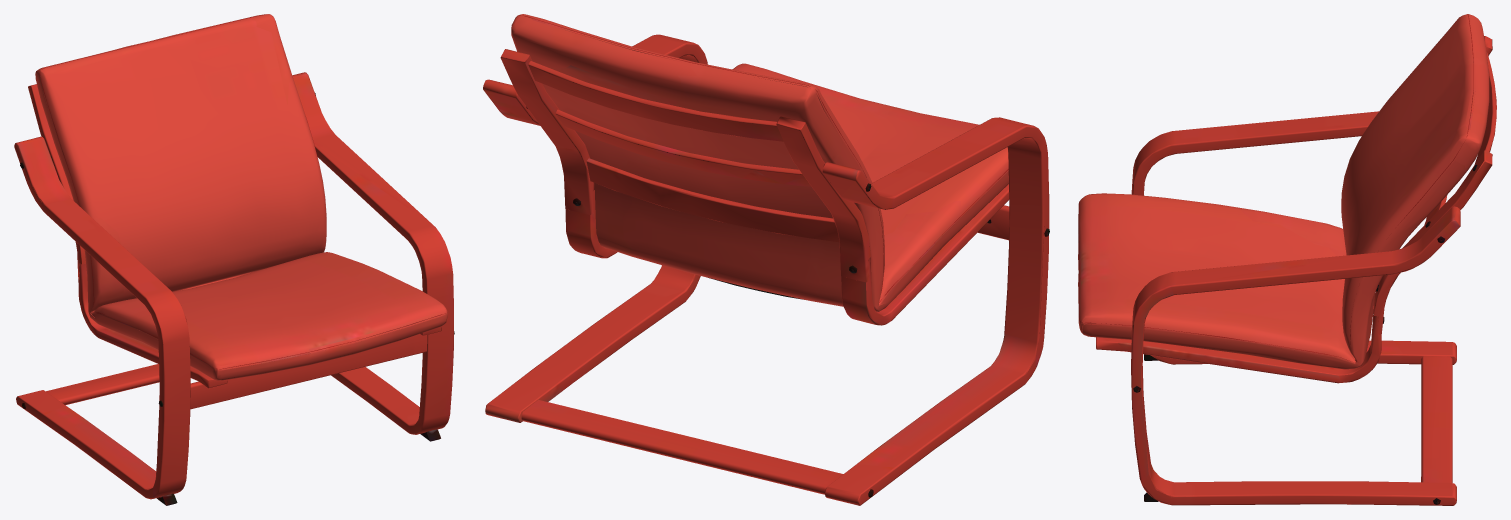
3 renders of one model, left to right at view 1: azimuth 30°, elevation 25°; view 2: azimuth 150°, elevation 25°; view 3: azimuth 270°, elevation 25°, orthographic. The views are drawn at different scales.
Visible parts, largest first — view 1: Mesh_0, Mesh_2; view 2: Mesh_0; view 3: Mesh_0, Mesh_2.
Boxes of the visible parts, x1=… form: Mesh_0: x1=14, y1=14, x2=454, y2=505; Mesh_2: x1=40, y1=14, x2=445, y2=369; Mesh_0: x1=483, y1=14, x2=1049, y2=505; Mesh_0: x1=1078, y1=14, x2=1496, y2=505; Mesh_2: x1=1078, y1=14, x2=1473, y2=361.
Size of the model in its own units: 0.6634 by 0.7006 by 0.7494.
Materials: 2 (1 with a texture image).
